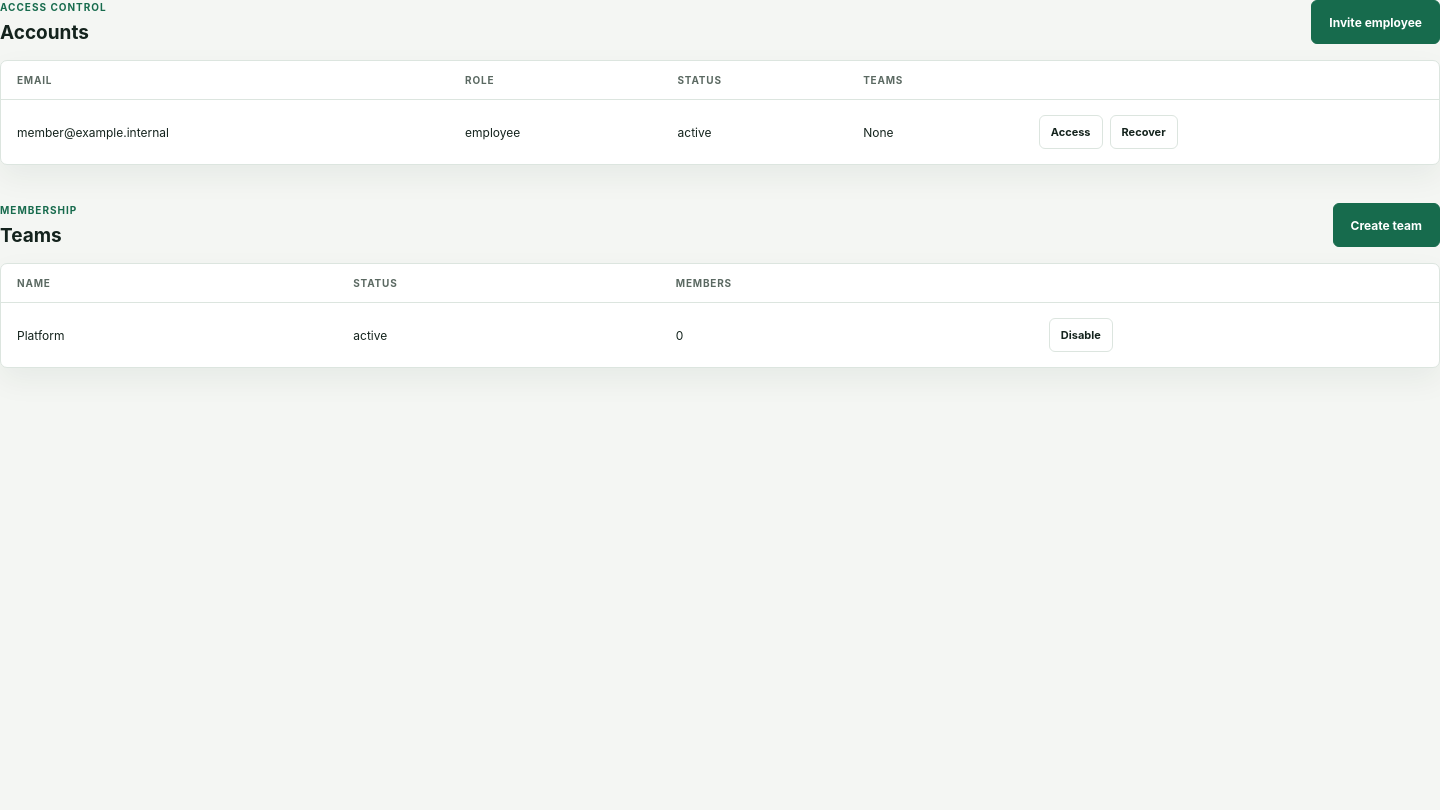
Scenario: SystemAdminWorkspace › keeps membership controls and team counts synchronized after changes
Click the button with aria-label "Manage access for member@example.internal" at (1071, 132), box x1=1039 y1=115 x2=1103 y2=149
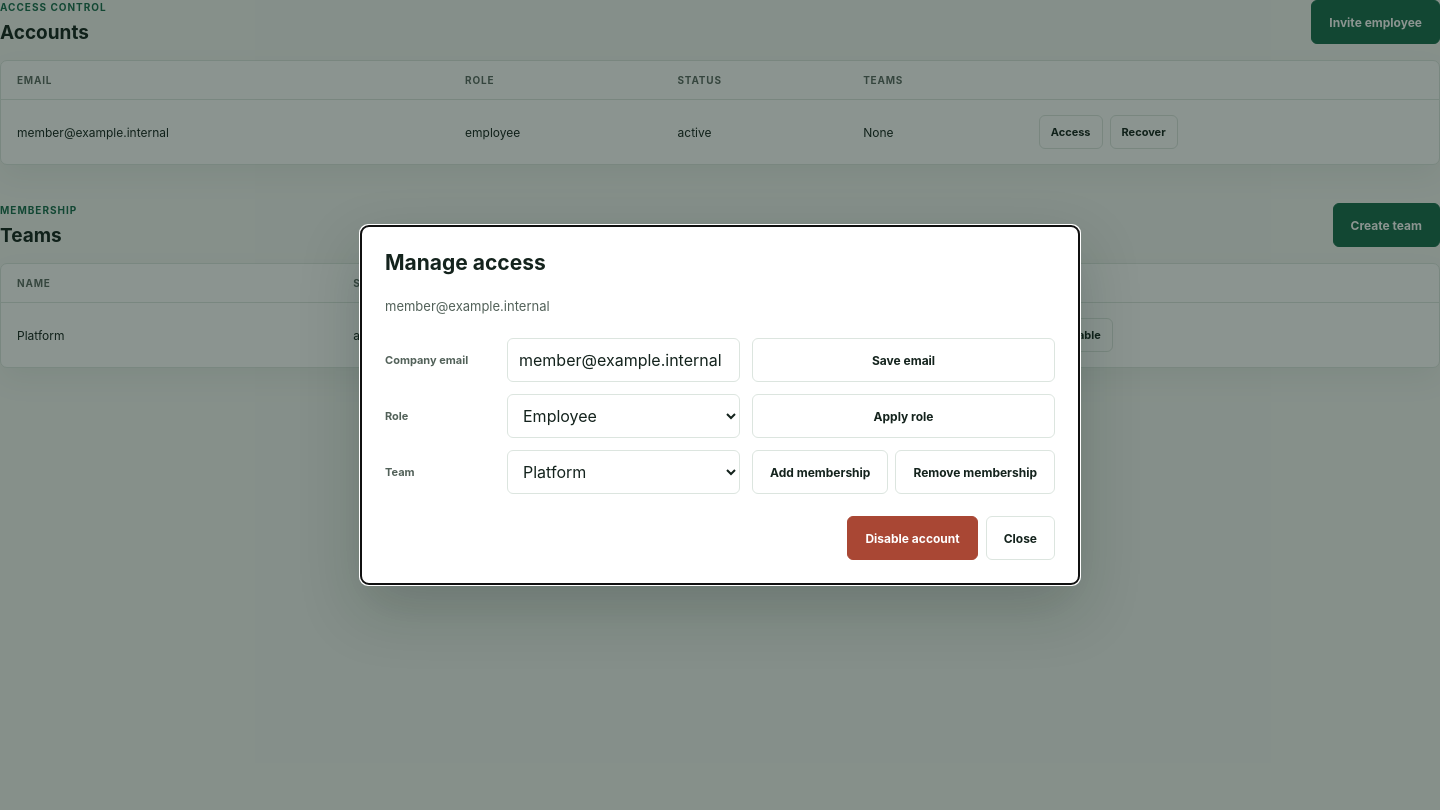
Click the button "Add membership" at (820, 472), box x1=752 y1=450 x2=888 y2=494
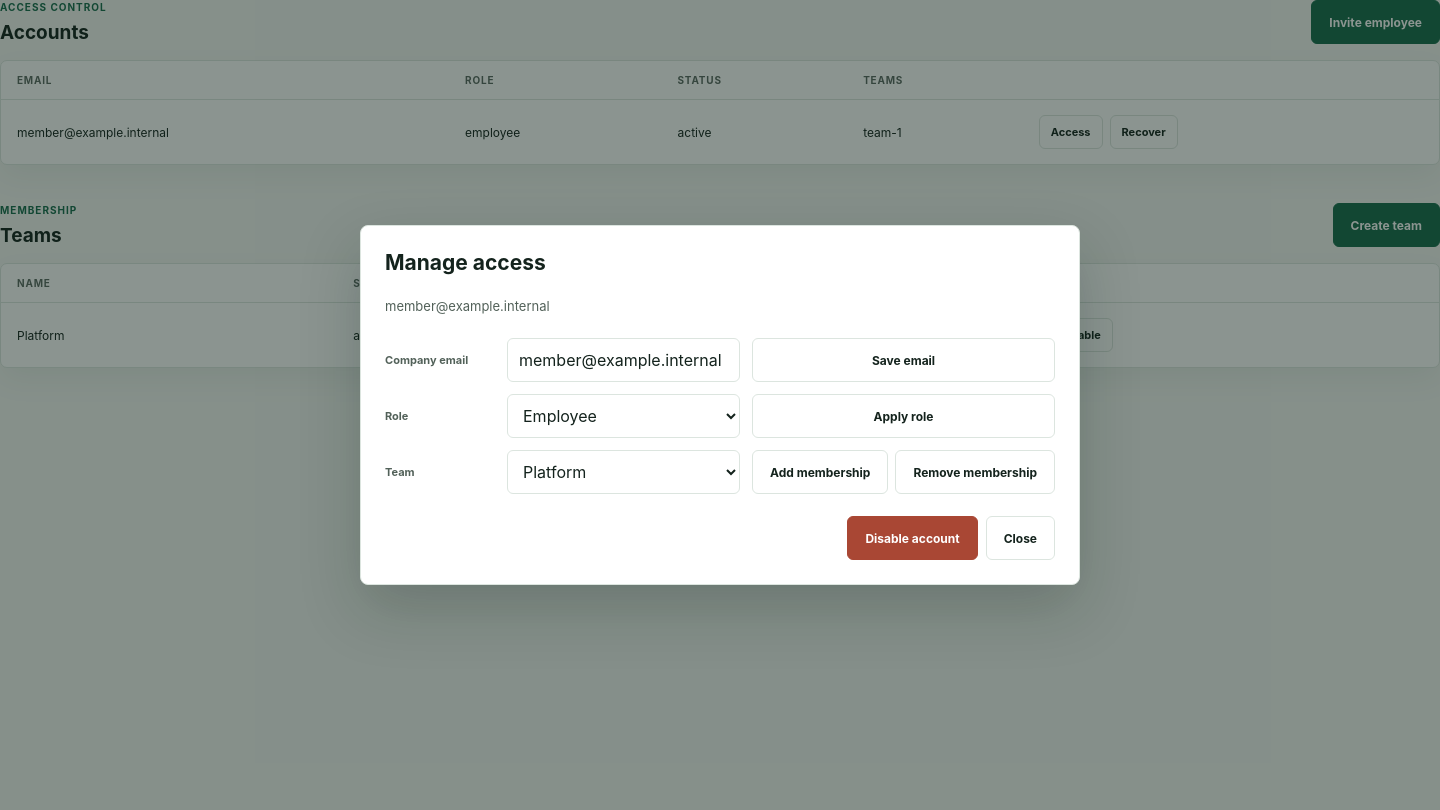
Expected: the text "Platform" shows "1", x1=676 y1=328 x2=681 y2=342
Click the button "Remove membership" at (975, 472), box x1=895 y1=450 x2=1055 y2=494
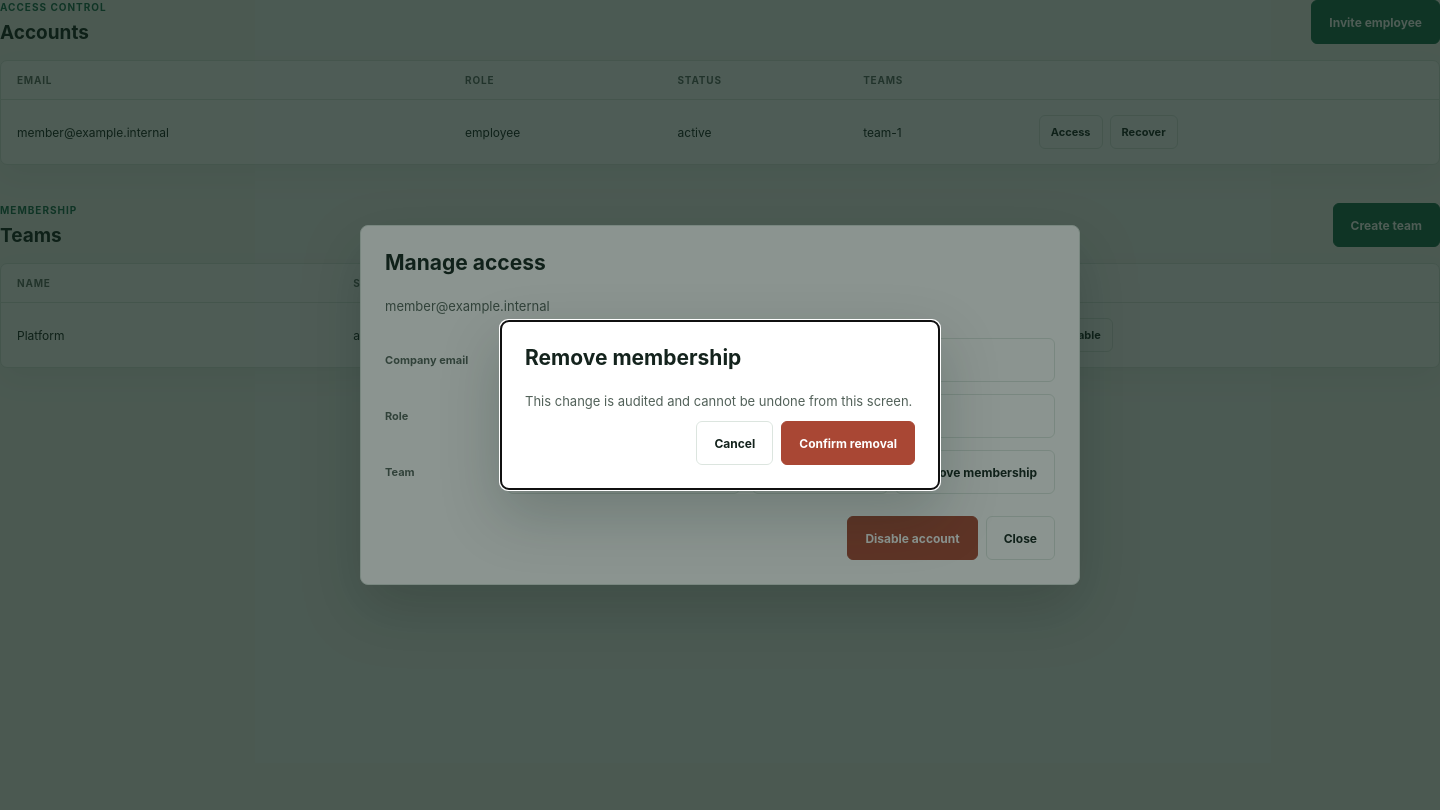
Click the button "Confirm removal" at (848, 443), box x1=781 y1=421 x2=915 y2=465
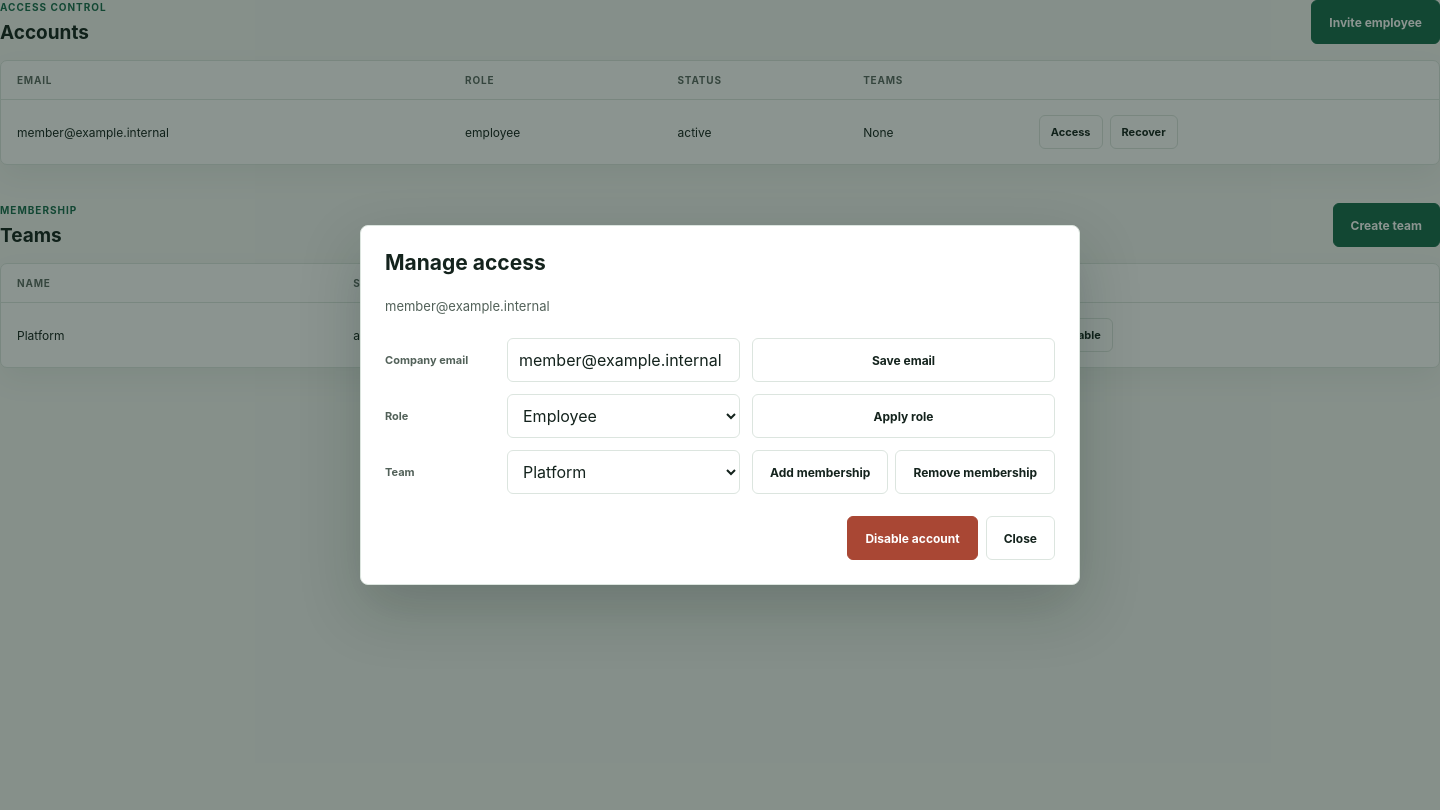
Expected: the text "Platform" shows "0", x1=676 y1=328 x2=683 y2=342
Result: the button "Add membership" is enabled at x1=752 y1=450 x2=888 y2=494
Result: the button "Remove membership" is disabled at x1=895 y1=450 x2=1055 y2=494
